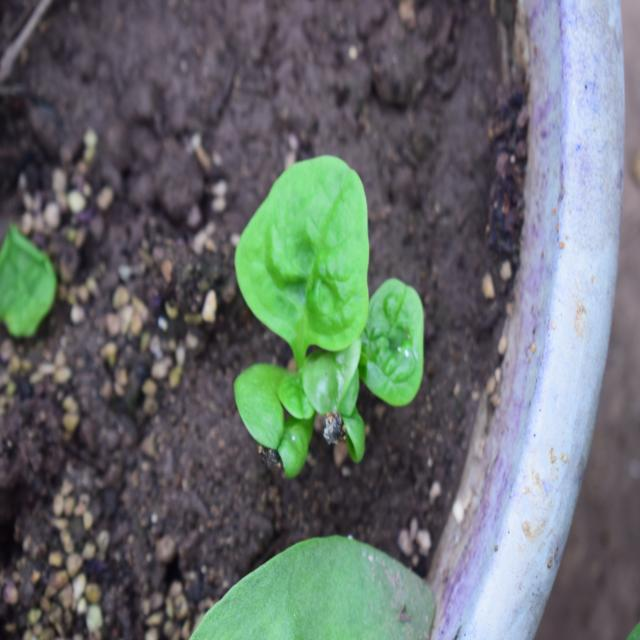Ceylon spinach: (223, 145, 428, 482)
